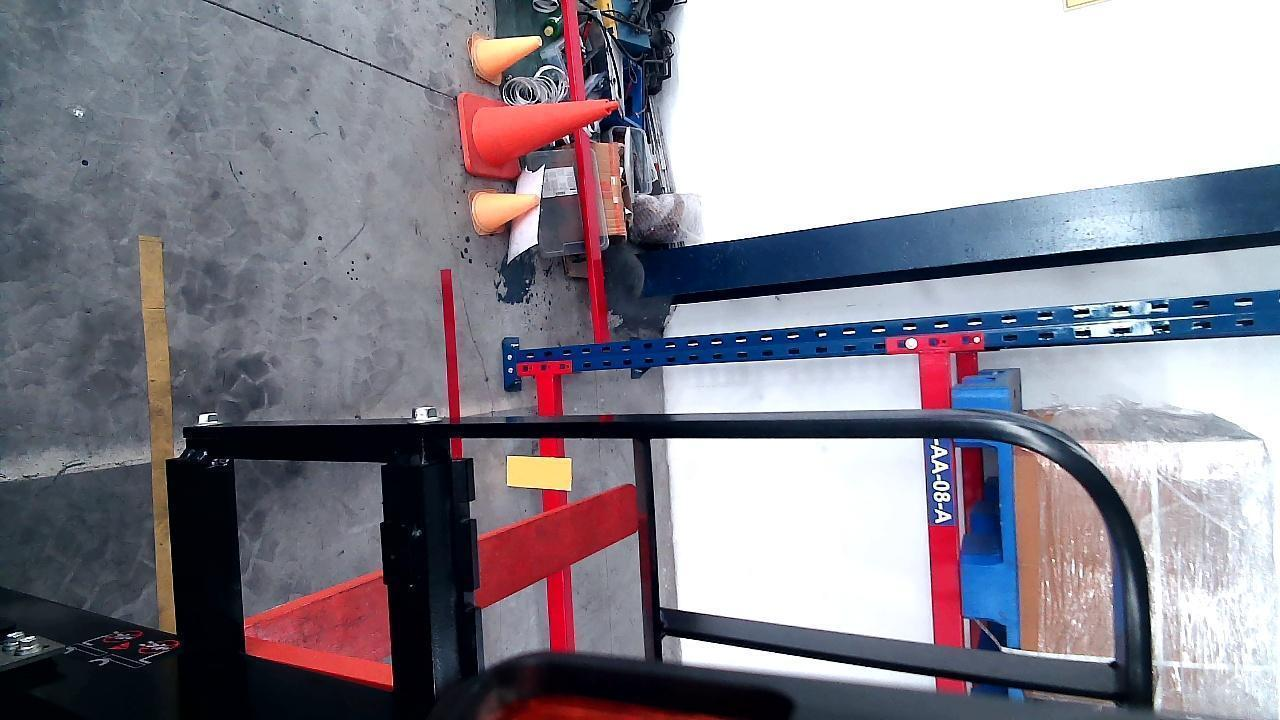red_line: (440, 266, 465, 462)
yellow_line: (139, 237, 173, 637)
